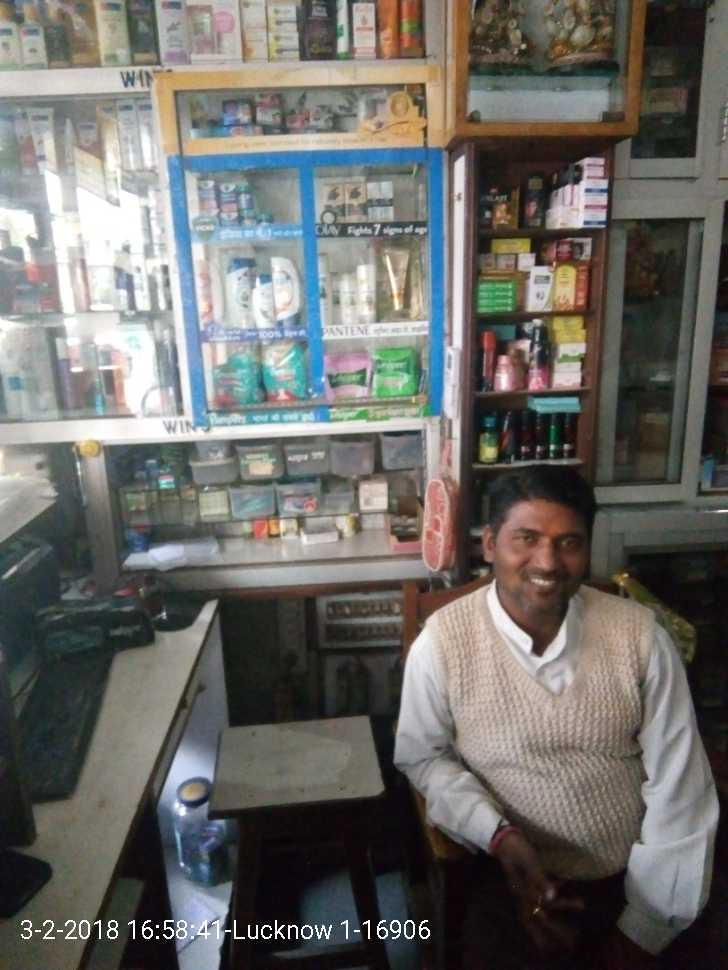vicks: (182, 167, 279, 230)
